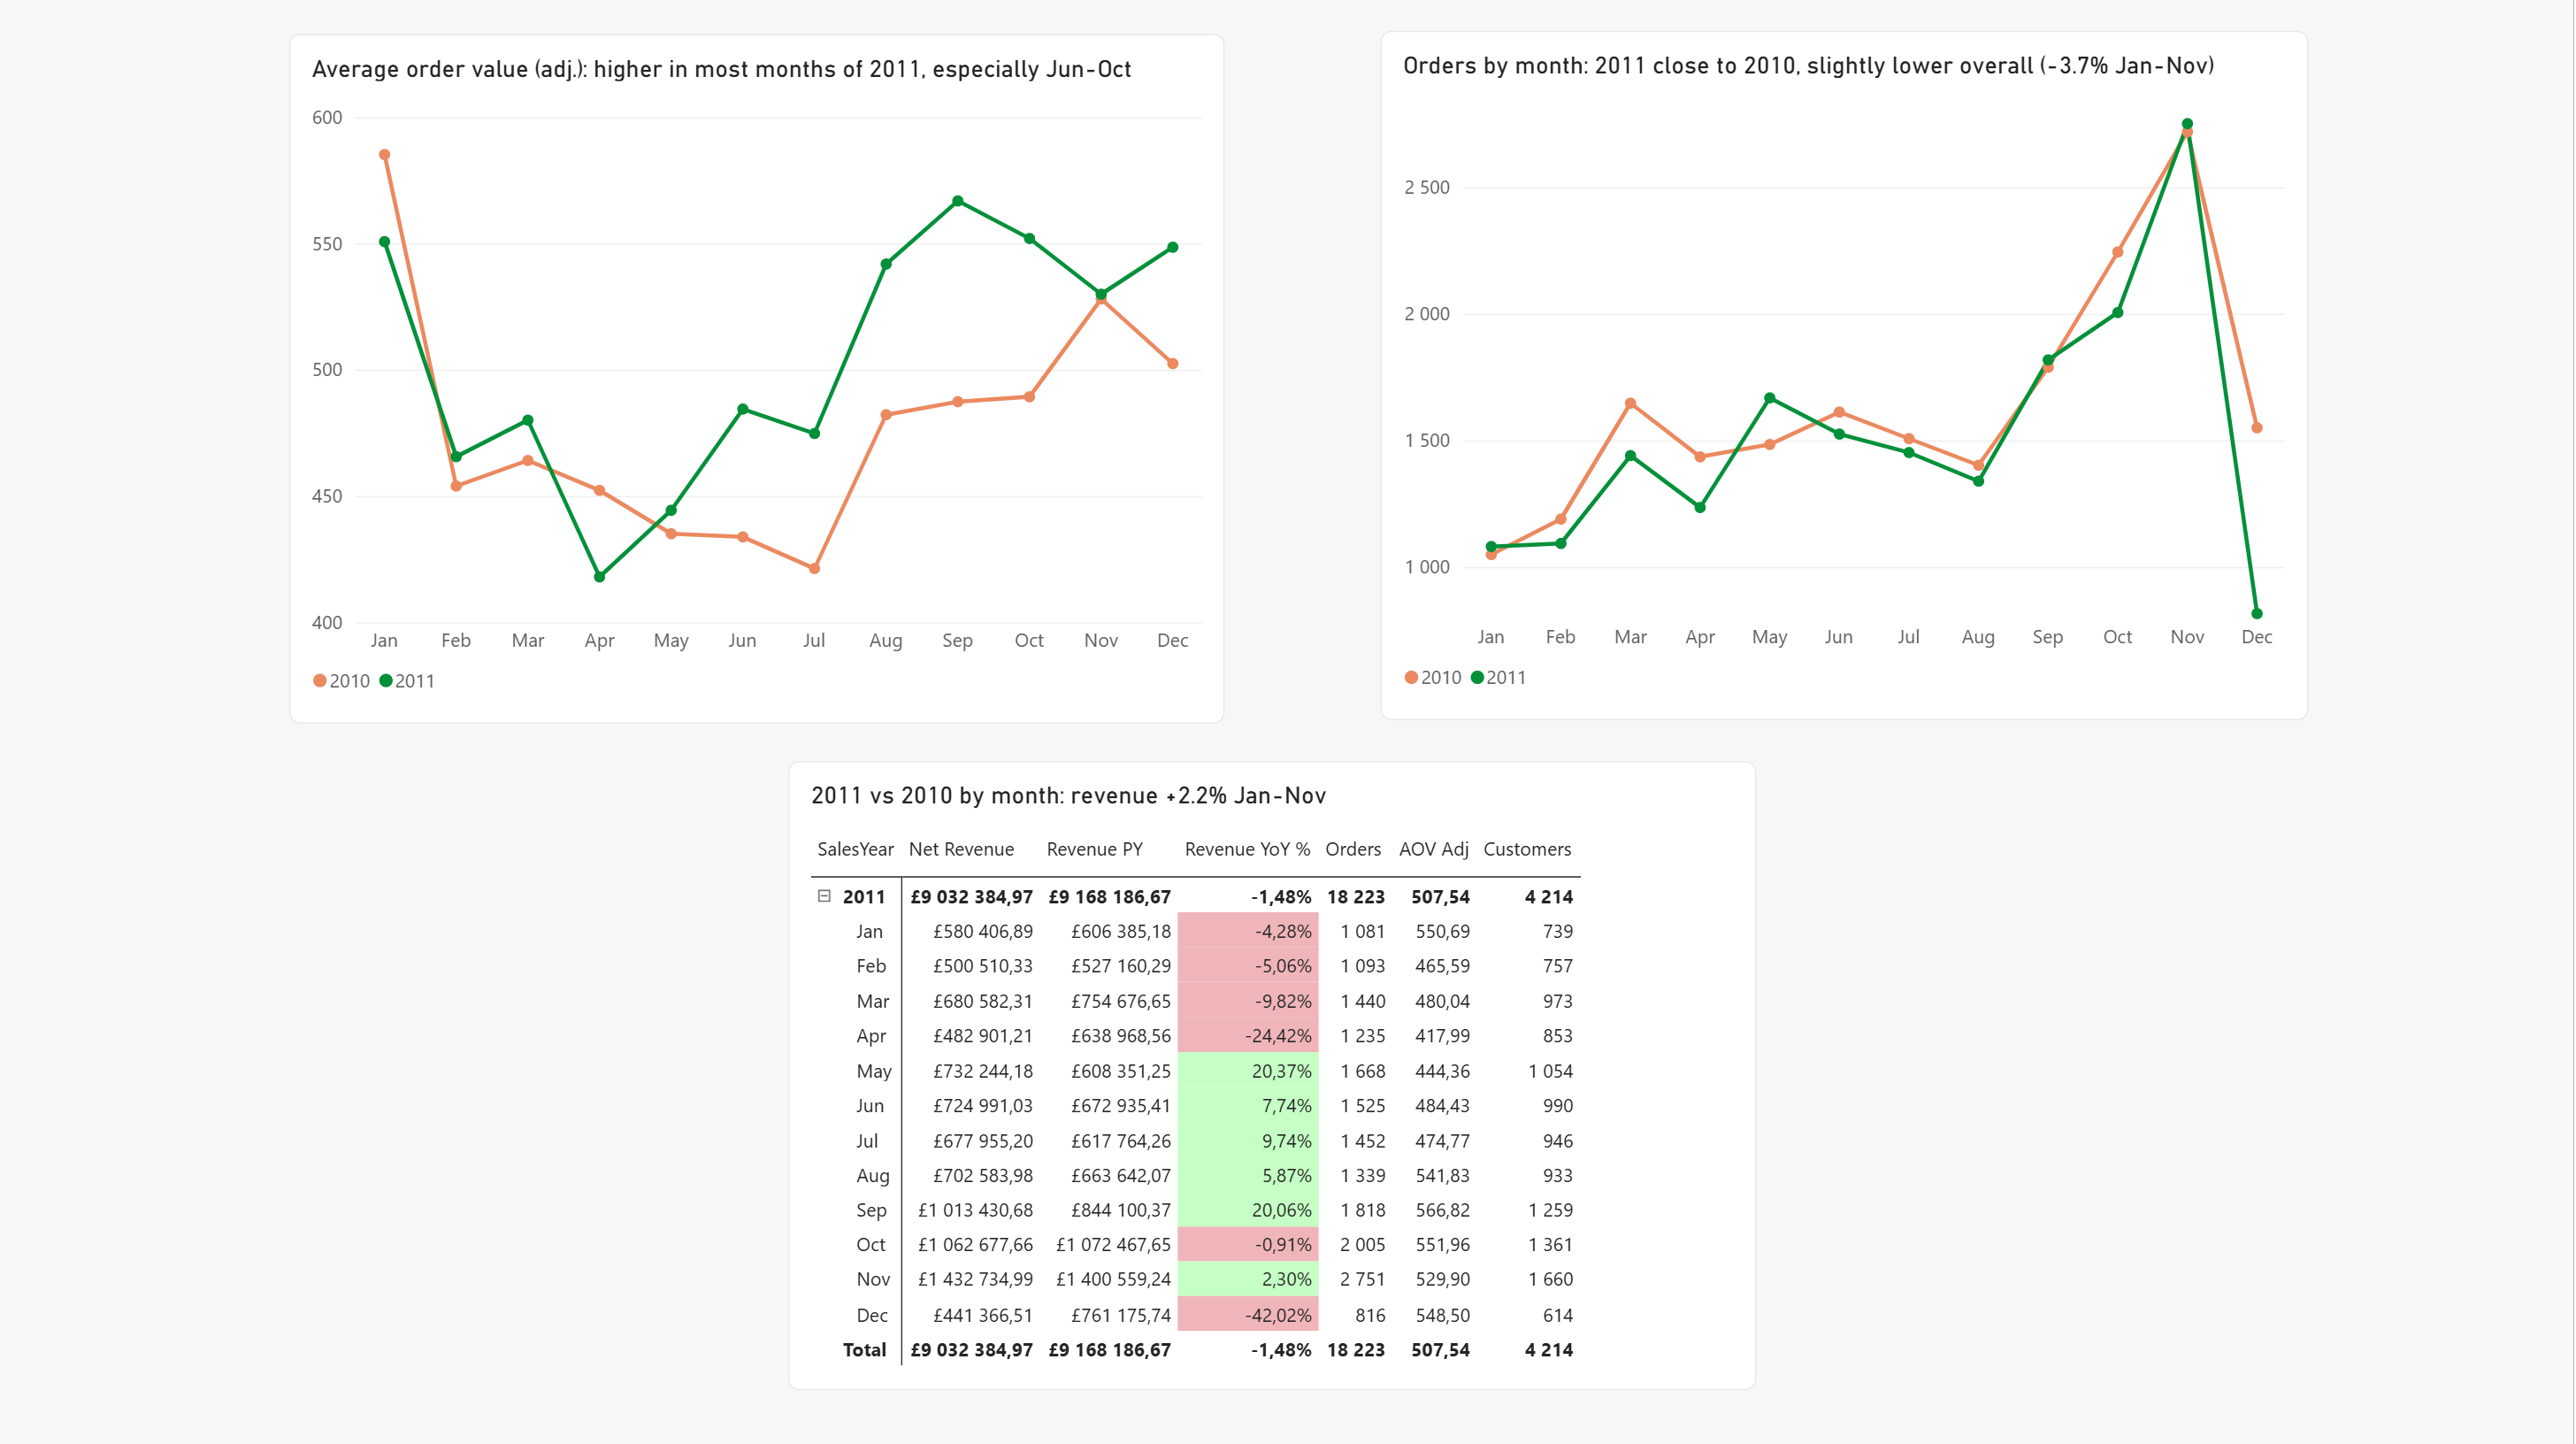

Layout of this report page (visuals, bound fields, positions):
{"tool":"powerbi","page":{"name":"Sales drivers","canvas":[1920,1080],"ordinal":1},"visuals":[{"type":"lineChart","title":"Average order value (adj.): higher in most months of 2011, especially Jun-Oct","fields":{"Category":["dim_date.Month Name"],"Series":["dim_date.SalesYear"],"Y":["_Measures.AOV Adj"]},"box":[216,26,698,514],"z":0},{"type":"lineChart","title":"Orders by month: 2011 close to 2010, slightly lower overall (-3.7% Jan-Nov)","fields":{"Category":["dim_date.Month Name"],"Series":["dim_date.SalesYear"],"Y":["_Measures.Orders"]},"box":[1030,23.3,692,514],"z":1000},{"type":"pivotTable","title":"2011 vs 2010 by month: revenue +2.2% Jan-Nov","fields":{"Rows":["dim_date.SalesYear","dim_date.Month Name"],"Values":["_Measures.Net Revenue","_Measures.Revenue PY","_Measures.Revenue YoY %","_Measures.Orders","_Measures.AOV Adj","_Measures.Customers"]},"box":[588.6,568.6,722.5,468.8],"z":2000}]}

Visuals, with their boxes in screenshot pixels (x1, y1, x2, y2), scaled from the page's 1920x1080 canvas onto the 2576x1444 screenshot:
"Average order value (adj.): higher in most months of 2011, especially Jun-Oct" lineChart: Rect(290, 35, 1226, 722)
"Orders by month: 2011 close to 2010, slightly lower overall (-3.7% Jan-Nov)" lineChart: Rect(1382, 31, 2311, 718)
"2011 vs 2010 by month: revenue +2.2% Jan-Nov" pivotTable: Rect(790, 760, 1759, 1387)
